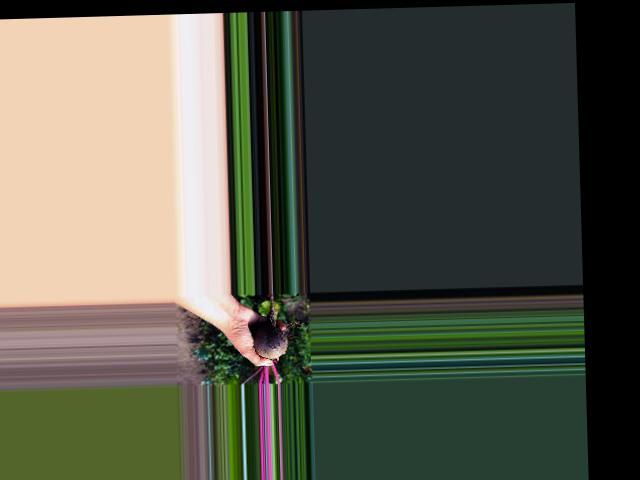beet: (238, 292, 302, 384)
